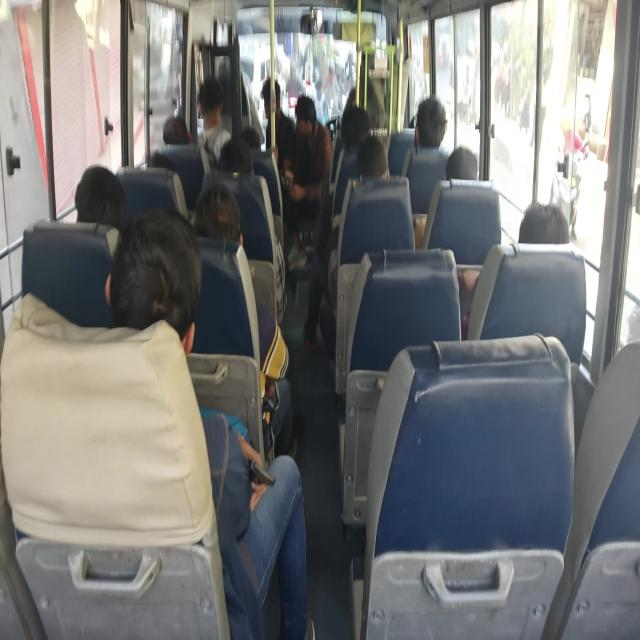person: (106, 207, 315, 638), (194, 180, 294, 464), (302, 134, 390, 358), (457, 200, 570, 336), (282, 95, 333, 269), (402, 96, 449, 214), (259, 77, 296, 180), (74, 163, 127, 229), (196, 76, 231, 162), (518, 200, 569, 244), (413, 96, 448, 152), (355, 134, 389, 180), (444, 145, 478, 180), (162, 115, 190, 145)
